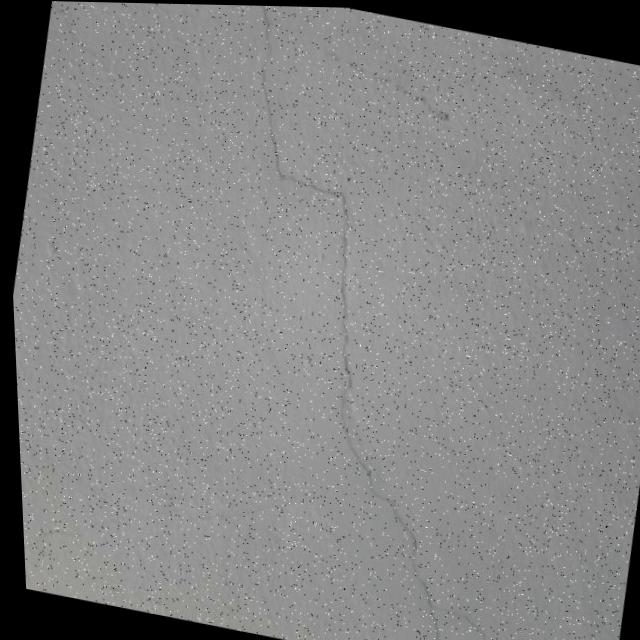Crack: (125, 2, 620, 640)
